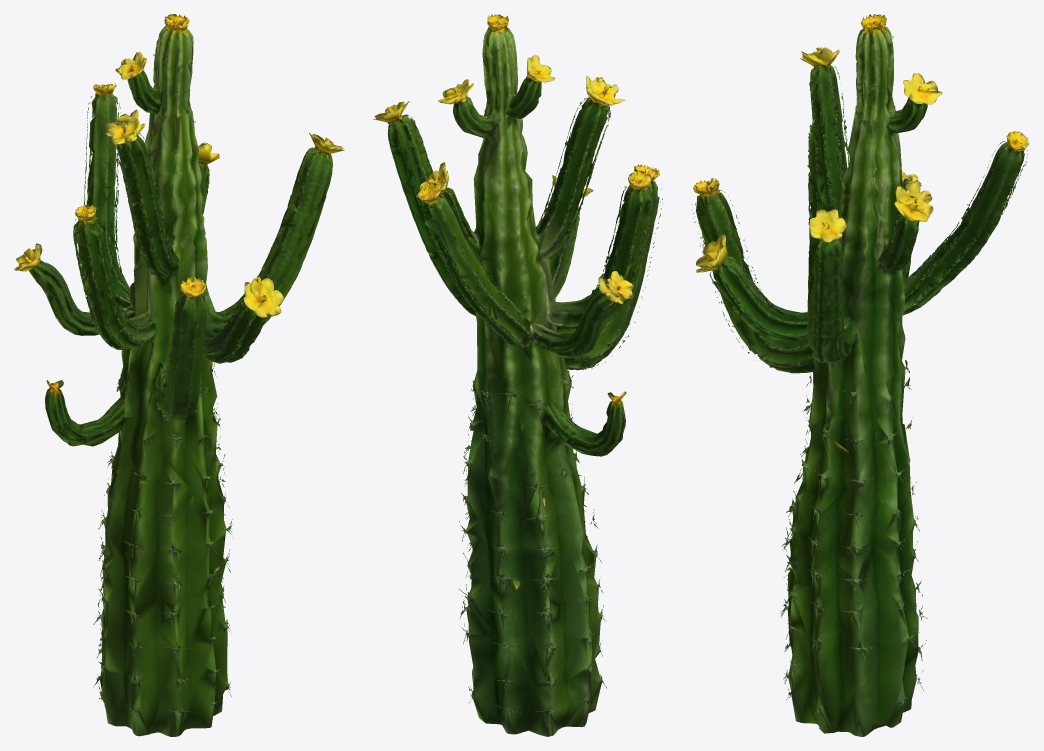
Rendered from cactus.glb.
The picture shows the model from 3 angles, left to right: view 1: azimuth 30°, elevation 25°; view 2: azimuth 150°, elevation 25°; view 3: azimuth 270°, elevation 25°; orthographic projection. The views are drawn at different scales.
Size of the model in its own units: 29142 by 65489 by 28463.
Materials: 1 (1 with a texture image).
